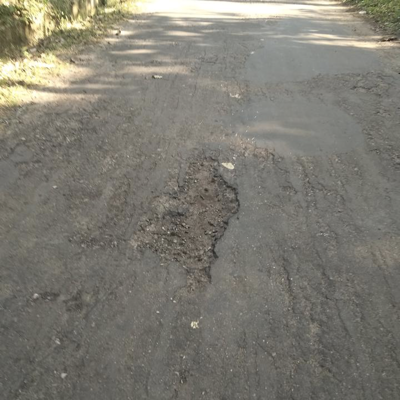pothole: (131, 148, 245, 295)
